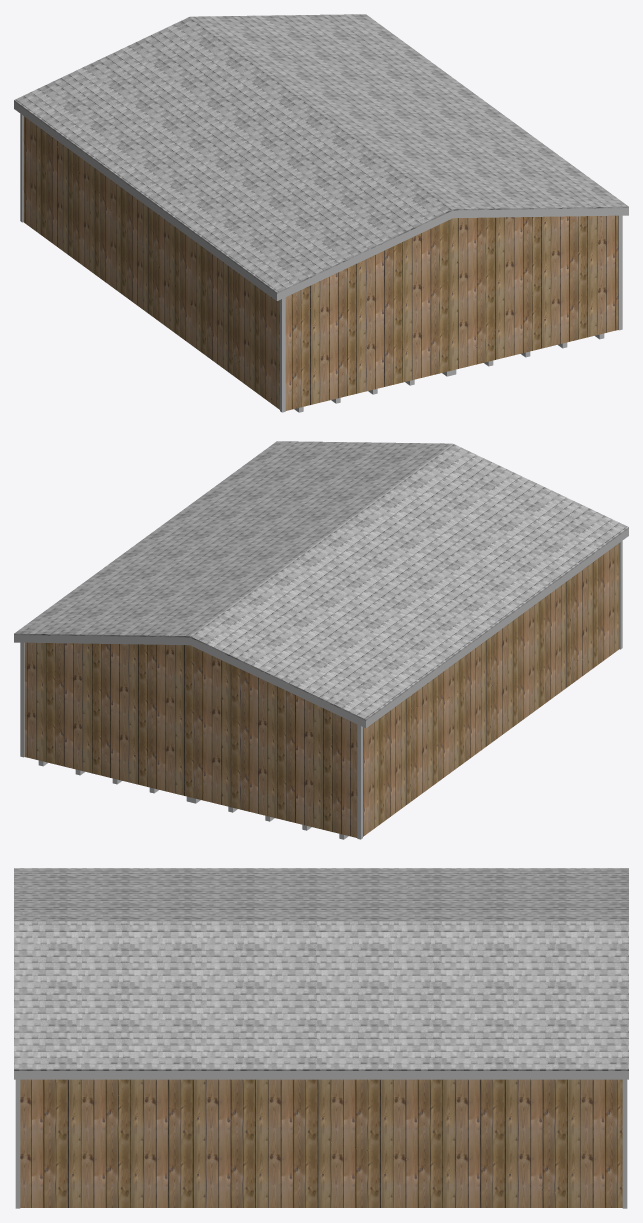
File: Double Garage 3-12 PITCH ROOF_24x32.obj
The picture shows the model from 3 angles, top to bottom: view 1: azimuth 30°, elevation 25°; view 2: azimuth 150°, elevation 25°; view 3: azimuth 270°, elevation 25°; orthographic projection. The views are drawn at different scales.
Parts seen in each view (by area): view 1: Roof, Shed, Sides, Trim; view 2: Roof, Shed, Sides, Trim; view 3: Roof, Shed, Sides, Trim.
Boxes of the visible parts, x1,y1,x2,y2 form: Roof: (14,14,628,293); Shed: (23,116,618,410); Sides: (14,101,628,300); Trim: (20,114,622,412); Roof: (14,441,628,720); Shed: (24,543,619,837); Sides: (14,528,628,727); Trim: (20,541,622,839); Roof: (14,868,628,1070); Shed: (20,1079,622,1207); Sides: (14,1071,628,1079); Trim: (15,1079,627,1208).
Size of the model in its own units: 7.62 by 3.46 by 9.86.
